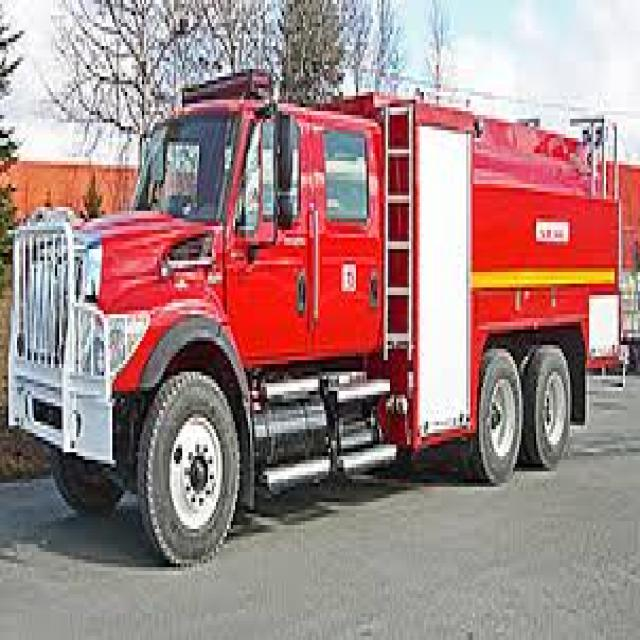pompier: (17, 68, 626, 564)
